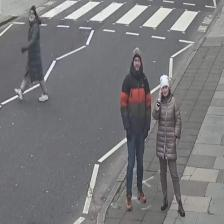person: (119, 46, 150, 211), (152, 74, 185, 216), (14, 6, 48, 102)
